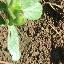Purslane: (0, 0, 47, 63)
